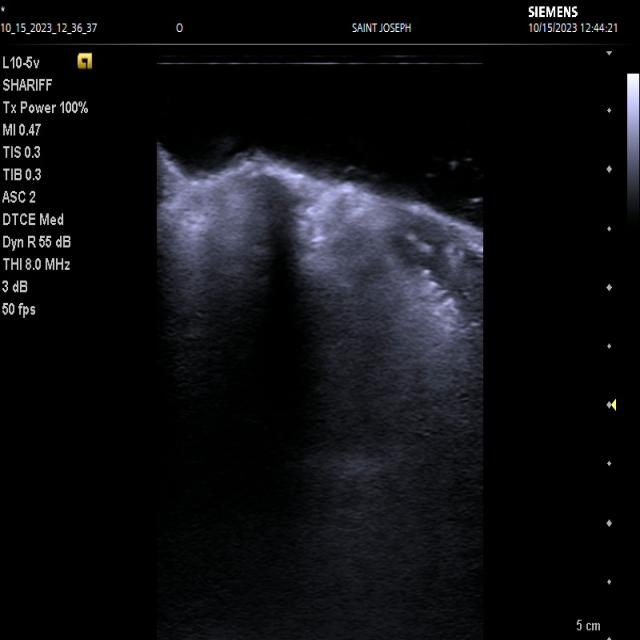tissue: (156, 151, 485, 640)
